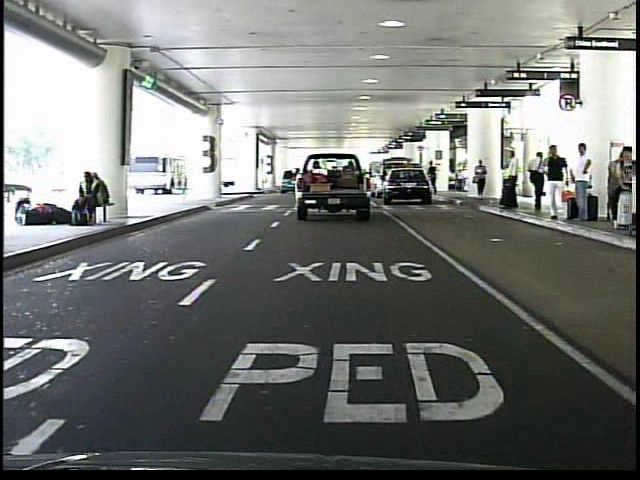person: (541, 142, 572, 226), (571, 137, 598, 231), (498, 148, 524, 213), (526, 145, 550, 213), (473, 159, 489, 203), (428, 161, 440, 199)
